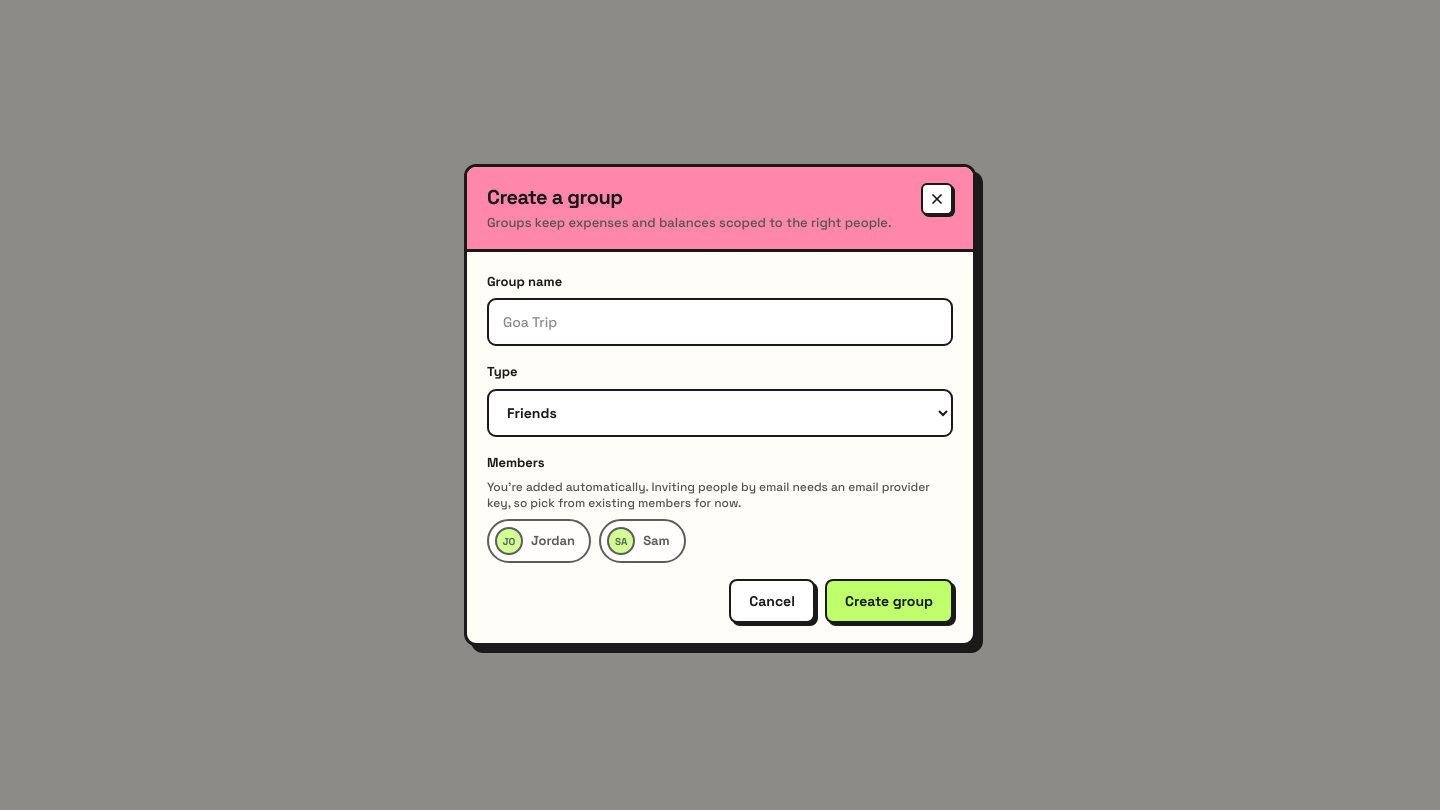
Test case: validation › refuses an unnamed group
Click the button "Create group" at (889, 601), box x1=825 y1=579 x2=953 y2=623
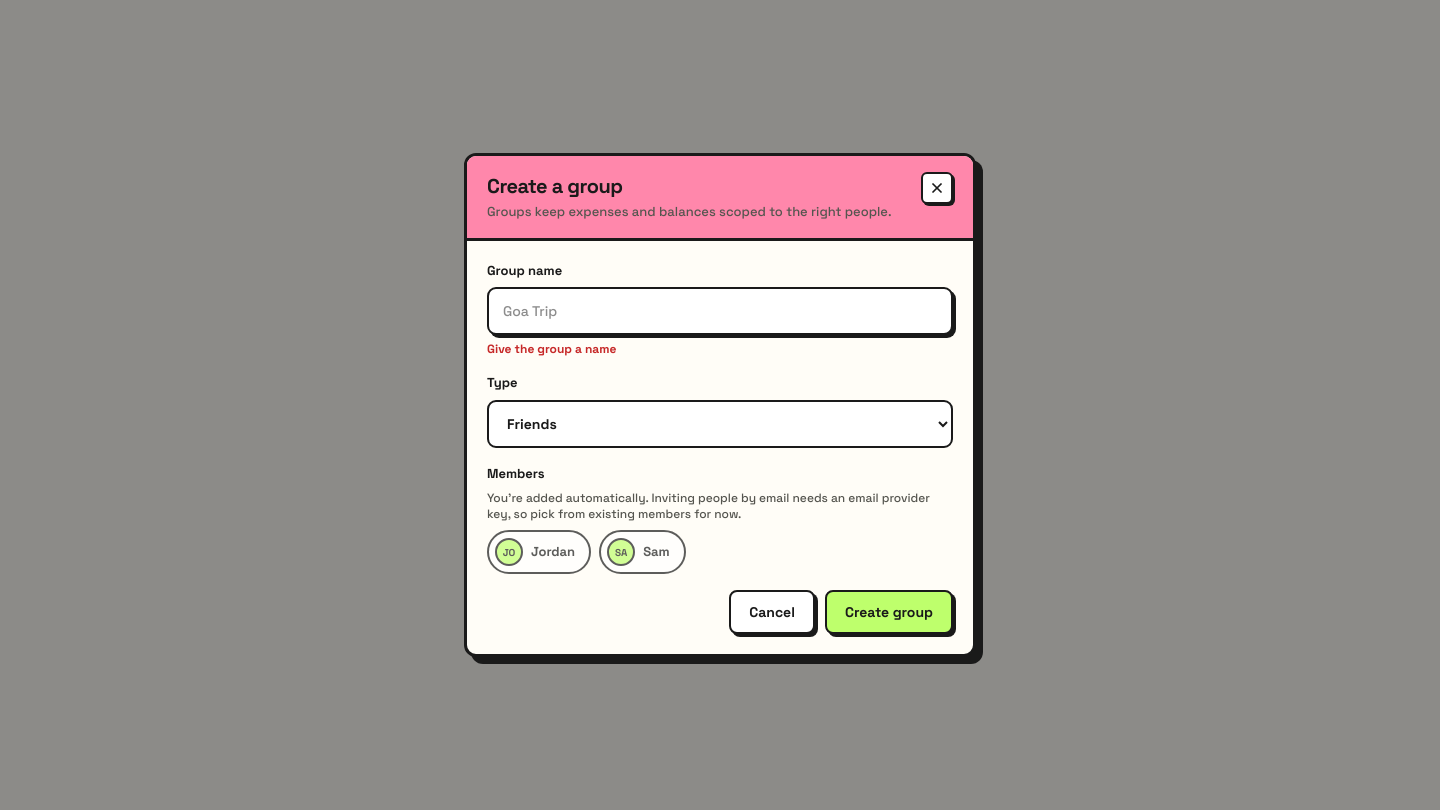
Expected: the text "Give the group a name" is shown, x1=487 y1=341 x2=616 y2=357
